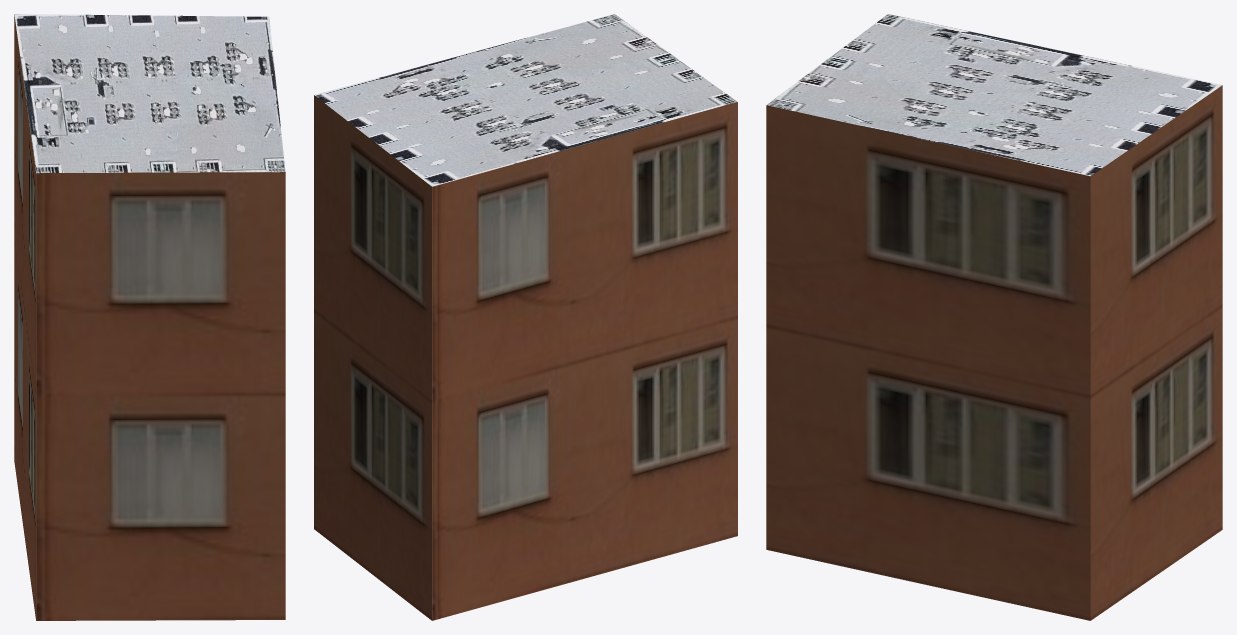
The model's file is ResTex__697.fbx.
The picture shows the model from 3 angles, left to right: view 1: azimuth 30°, elevation 25°; view 2: azimuth 150°, elevation 25°; view 3: azimuth 270°, elevation 25°; orthographic projection. The views are drawn at different scales.
Visible parts, largest first — view 1: CityEngineMaterial_20_m, CityEngineMaterial_4_m; view 2: CityEngineMaterial_20_m, CityEngineMaterial_4_m; view 3: CityEngineMaterial_20_m, CityEngineMaterial_4_m.
Part boxes in pixels (x1,y1,x2,y2): CityEngineMaterial_20_m: [14, 15, 285, 620]; CityEngineMaterial_4_m: [14, 14, 285, 173]; CityEngineMaterial_20_m: [314, 95, 737, 620]; CityEngineMaterial_4_m: [314, 14, 737, 186]; CityEngineMaterial_20_m: [766, 85, 1222, 620]; CityEngineMaterial_4_m: [766, 14, 1222, 176].
Bounding box in the file's own units: 4.7 × 6 × 5.58.
Materials: 2 (2 with a texture image).
